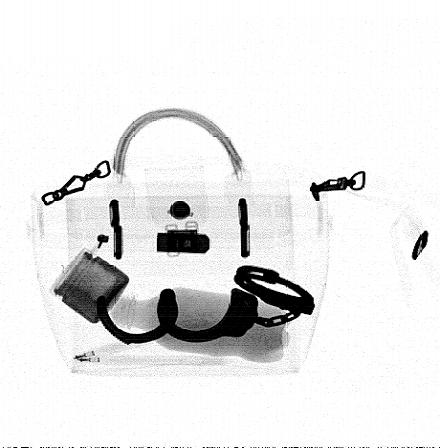HandCuffs: (95, 262, 317, 346)
